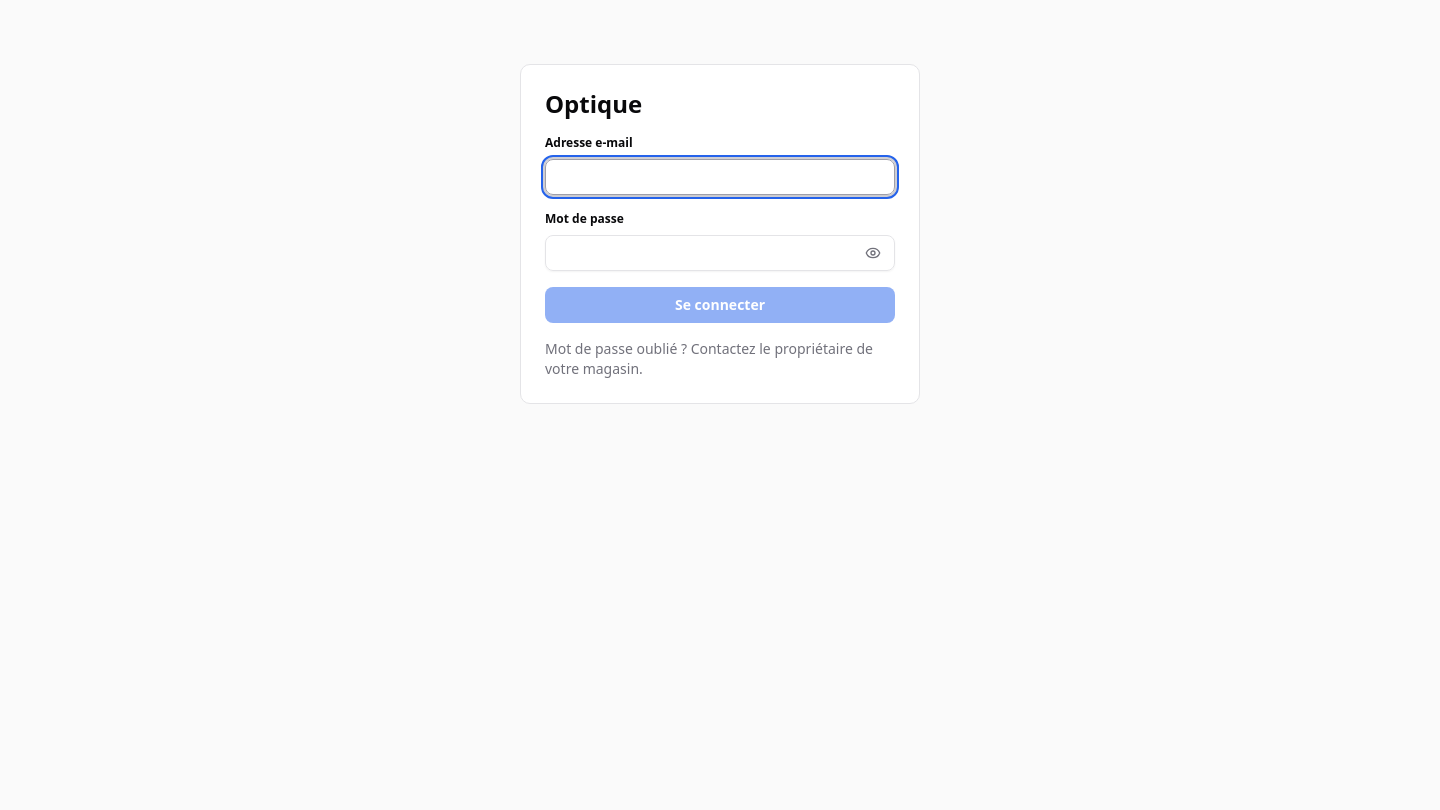
Scenario: /connexion › une connexion reussie mene dans l'application et y revient par le chemin memorise
Type "karim.benali@optiqueanfa.ma" into the field labelled "Adresse e-mail" at (720, 177), box [545, 159, 895, 195]
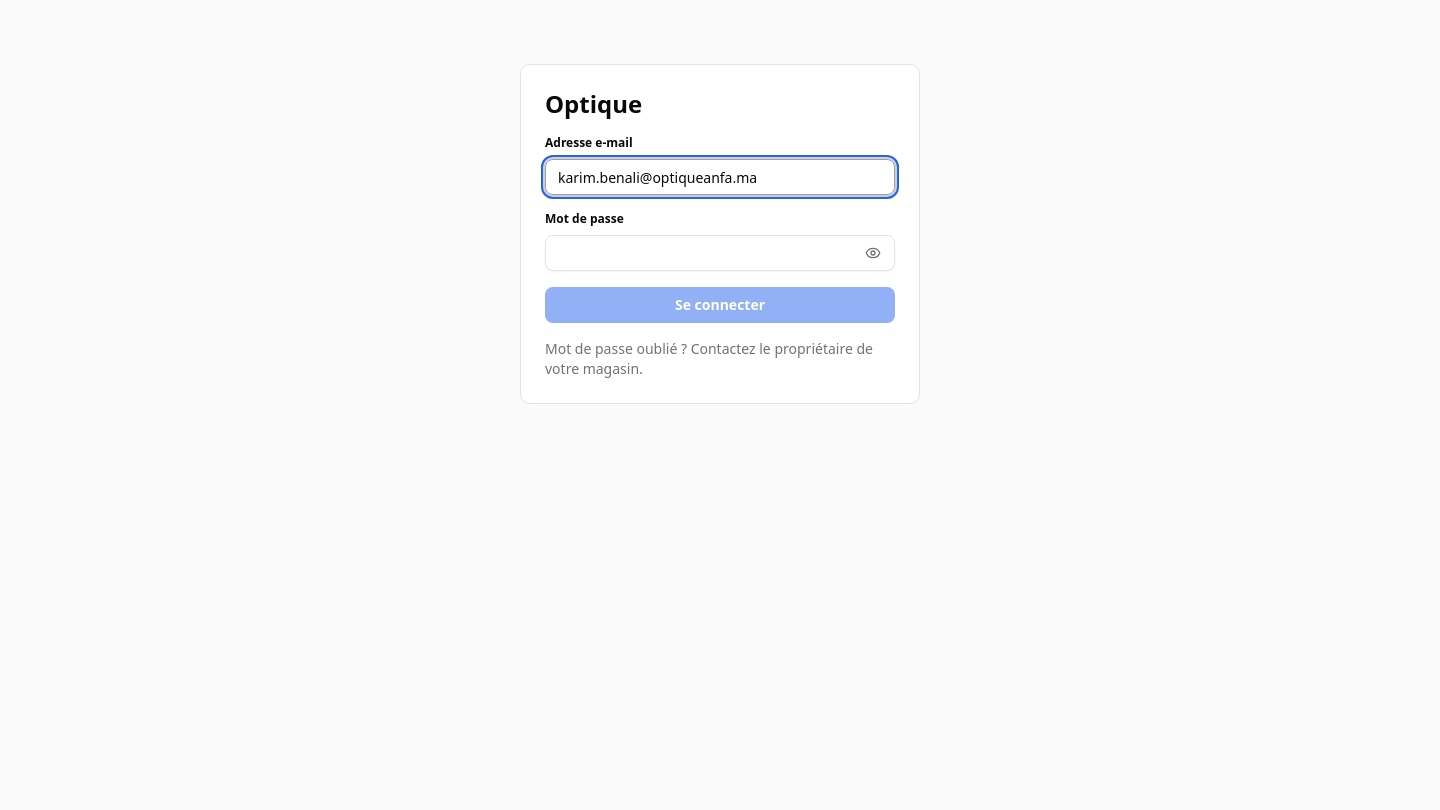
Type "bon" into the password field labelled "Mot de passe" at (720, 253), box [545, 235, 895, 271]
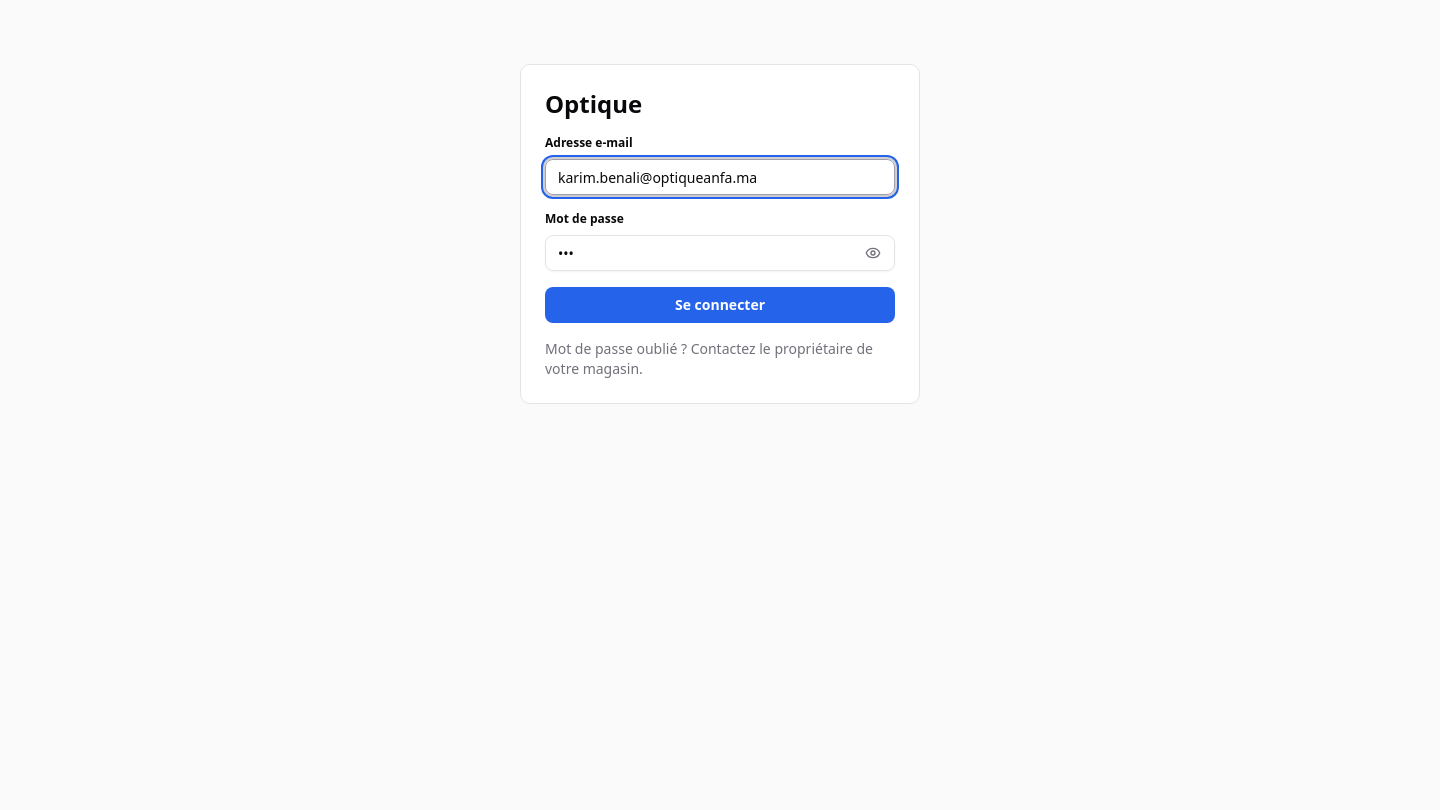
Click the button "Se connecter" at (720, 305), box [545, 287, 895, 323]
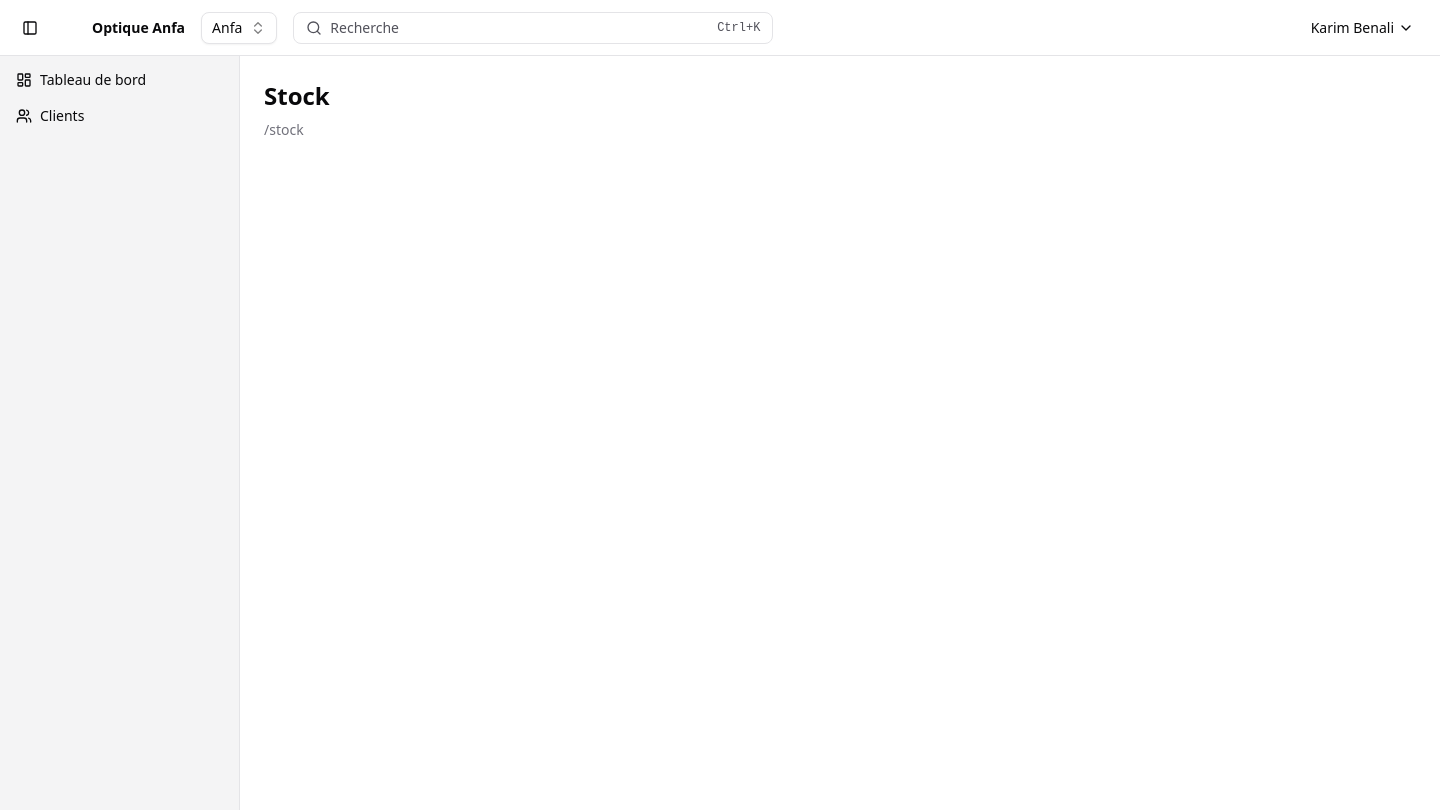
Check: the text with test id "destination" reads "/stock", box [264, 120, 304, 139]
